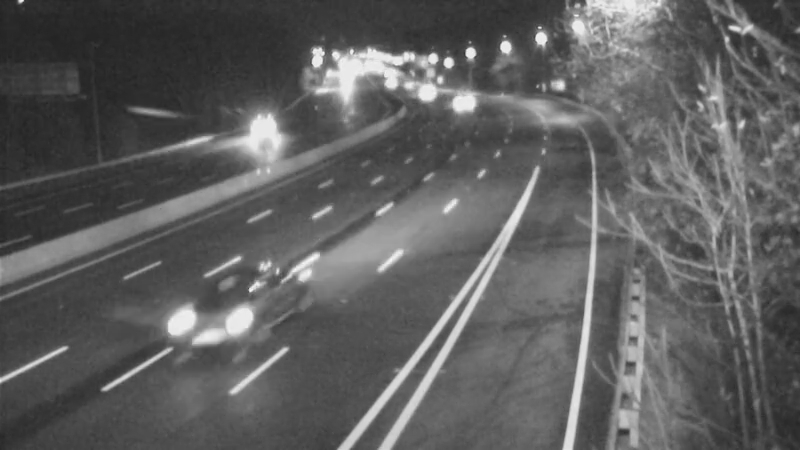vehicle: (156, 274, 266, 384), (442, 76, 492, 126), (230, 106, 280, 156)
